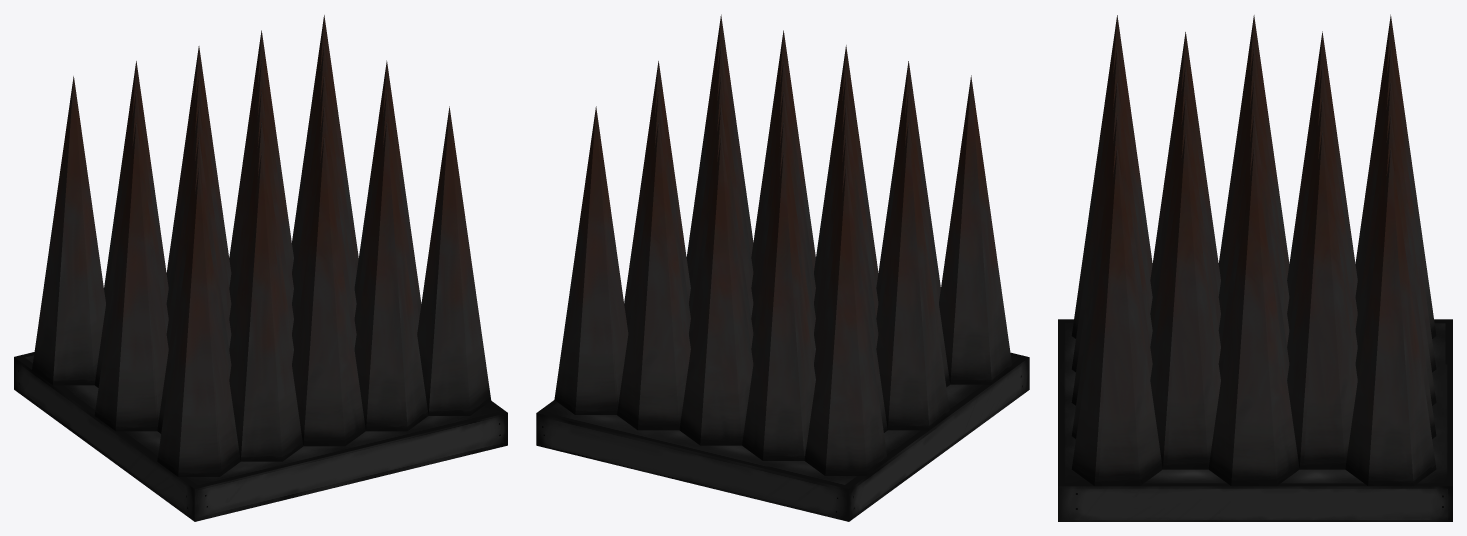
Rendered from spikes_rotated.dae.
3 renders of one model, left to right at view 1: azimuth 30°, elevation 25°; view 2: azimuth 150°, elevation 25°; view 3: azimuth 270°, elevation 25°, orthographic. The views are drawn at different scales.
Visible parts, largest first — view 1: Circle_002, Plane_002; view 2: Circle_002, Plane_002; view 3: Circle_002, Plane_002.
Part boxes in pixels (<box>): Circle_002: <box>32,15,491,476</box>; Plane_002: <box>14,352,507,521</box>; Circle_002: <box>554,14,1012,475</box>; Plane_002: <box>536,352,1029,521</box>; Circle_002: <box>1071,14,1436,486</box>; Plane_002: <box>1058,319,1452,521</box>.
Bounding box in the file's own units: 2 × 2 × 2.
Materials: 1 (1 with a texture image).
